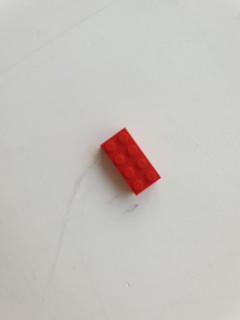2x4 red: (97, 127, 162, 197)
